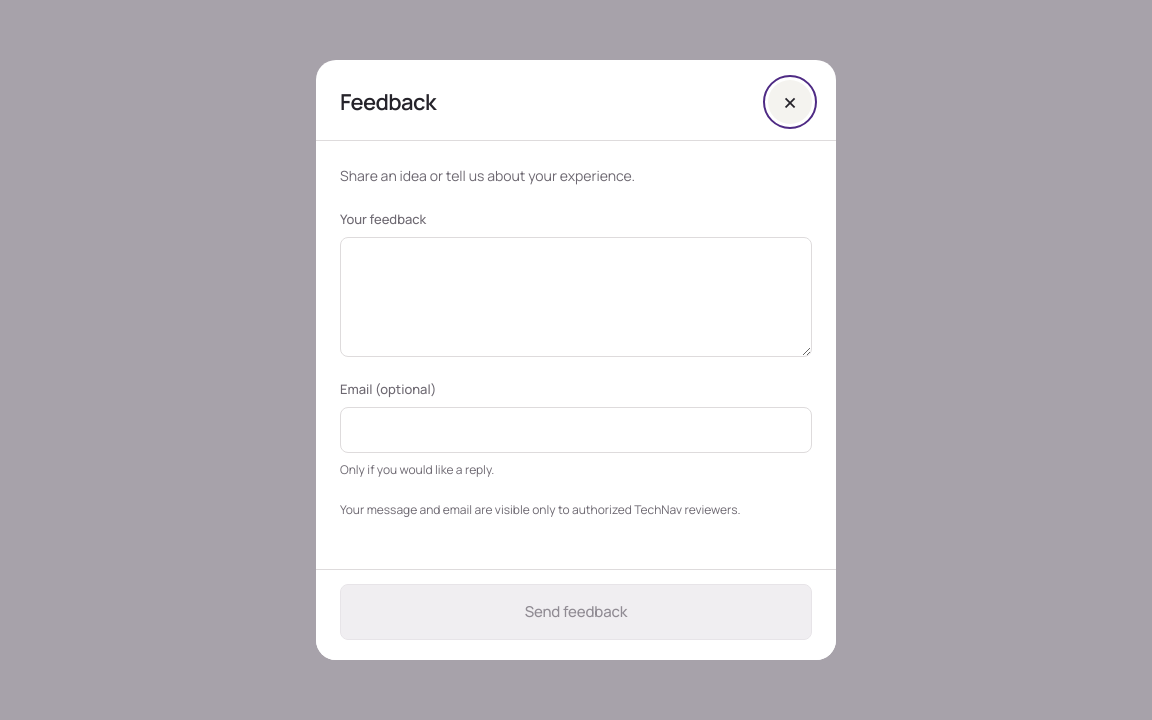
Scenario: private app feedback › keeps the message after a failed send and confirms only when saved
expect the button "Send feedback" is disabled: met, box [340,584,812,640]
Type "Room search was hard to understand." into the text box labelled "Your feedback". click: (576, 297)
box: [340,237,812,357]
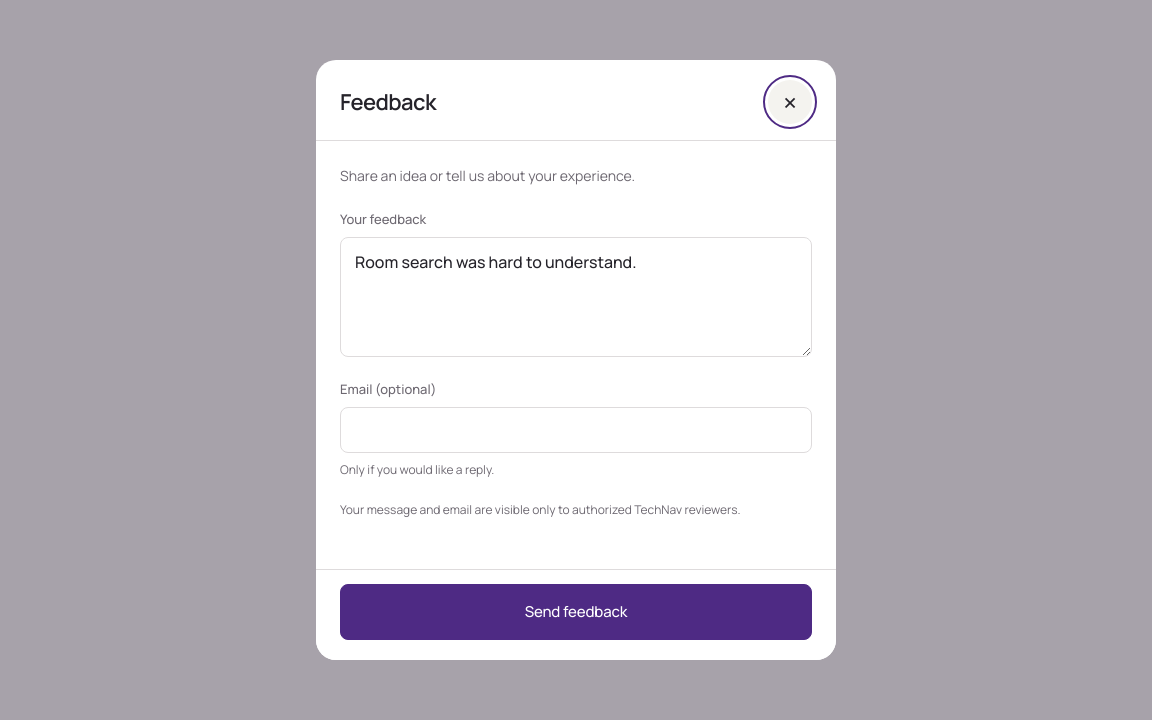
Click the button "Send feedback". click: (576, 612)
box: [340,584,812,640]
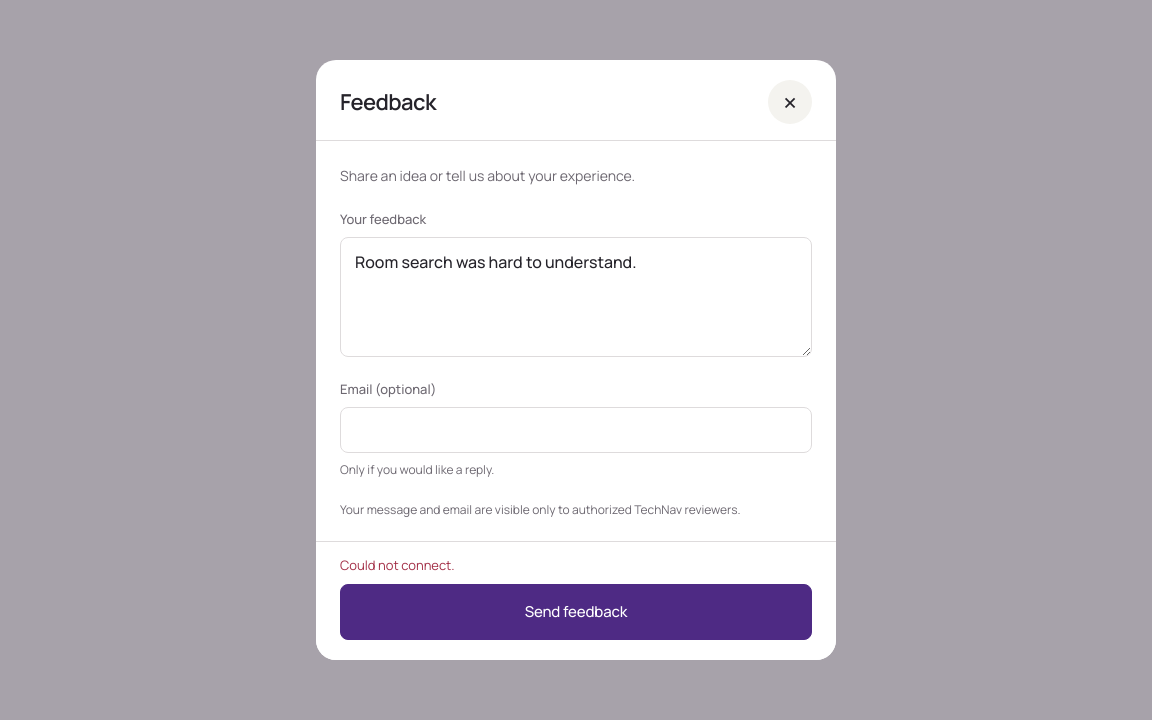
expect the text "Feedback sent." is not shown: met
expect the message reads "Could not connect.": met, box [340,556,455,574]
Click the button "Send feedback". click: (576, 612)
box: [340,584,812,640]
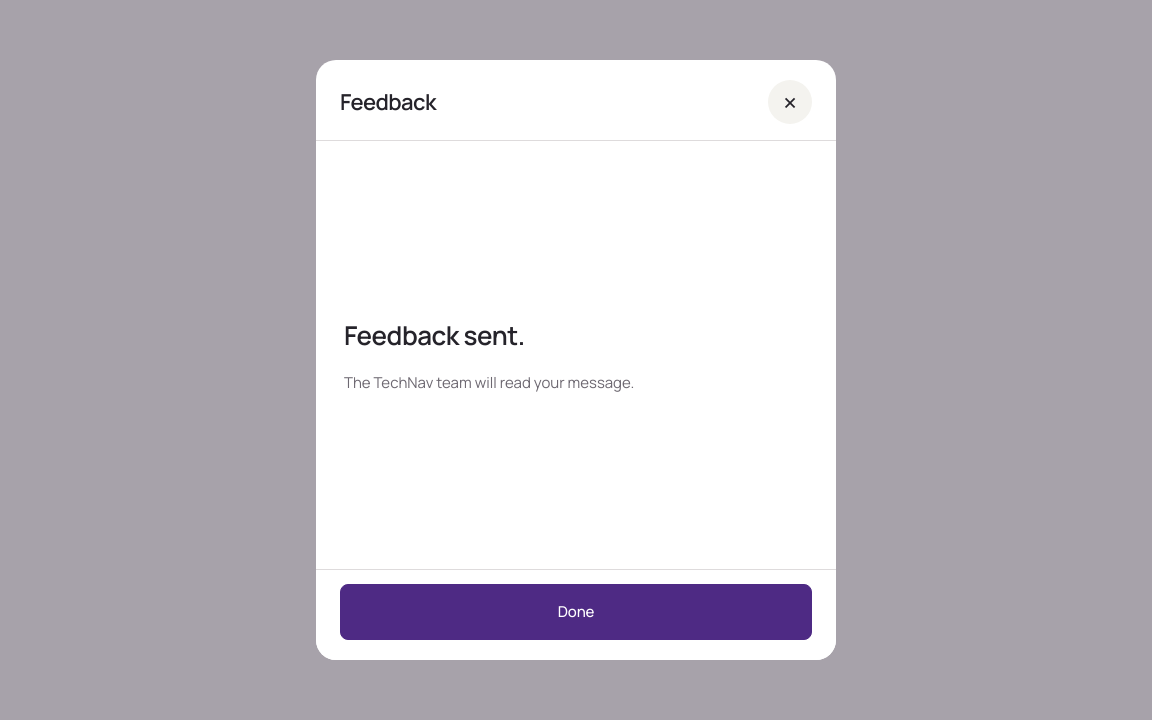
expect the message shows "Feedback sent.": met, box [344,316,525,352]
